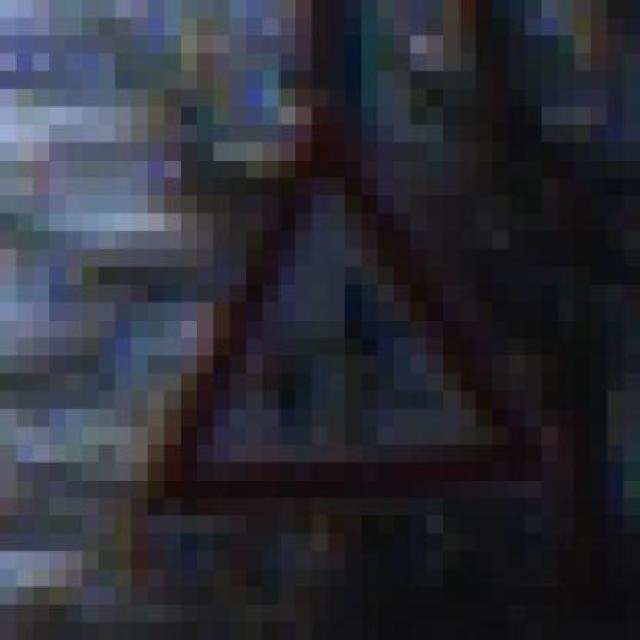Beware of children: (99, 106, 558, 534)
